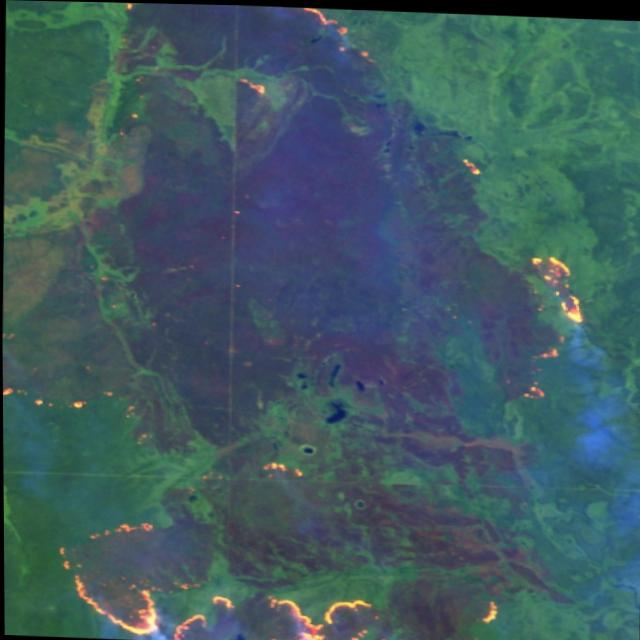fire: (63, 513, 504, 640), (507, 248, 591, 404), (286, 5, 380, 66)
